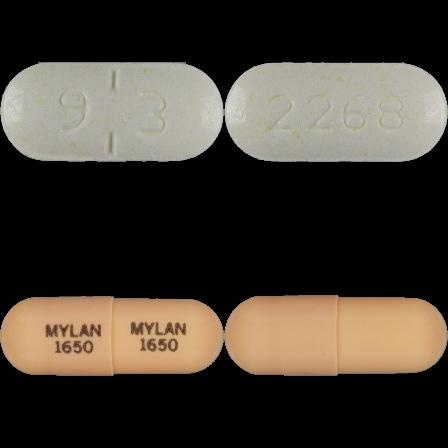55289-182: (0, 0, 224, 224)
